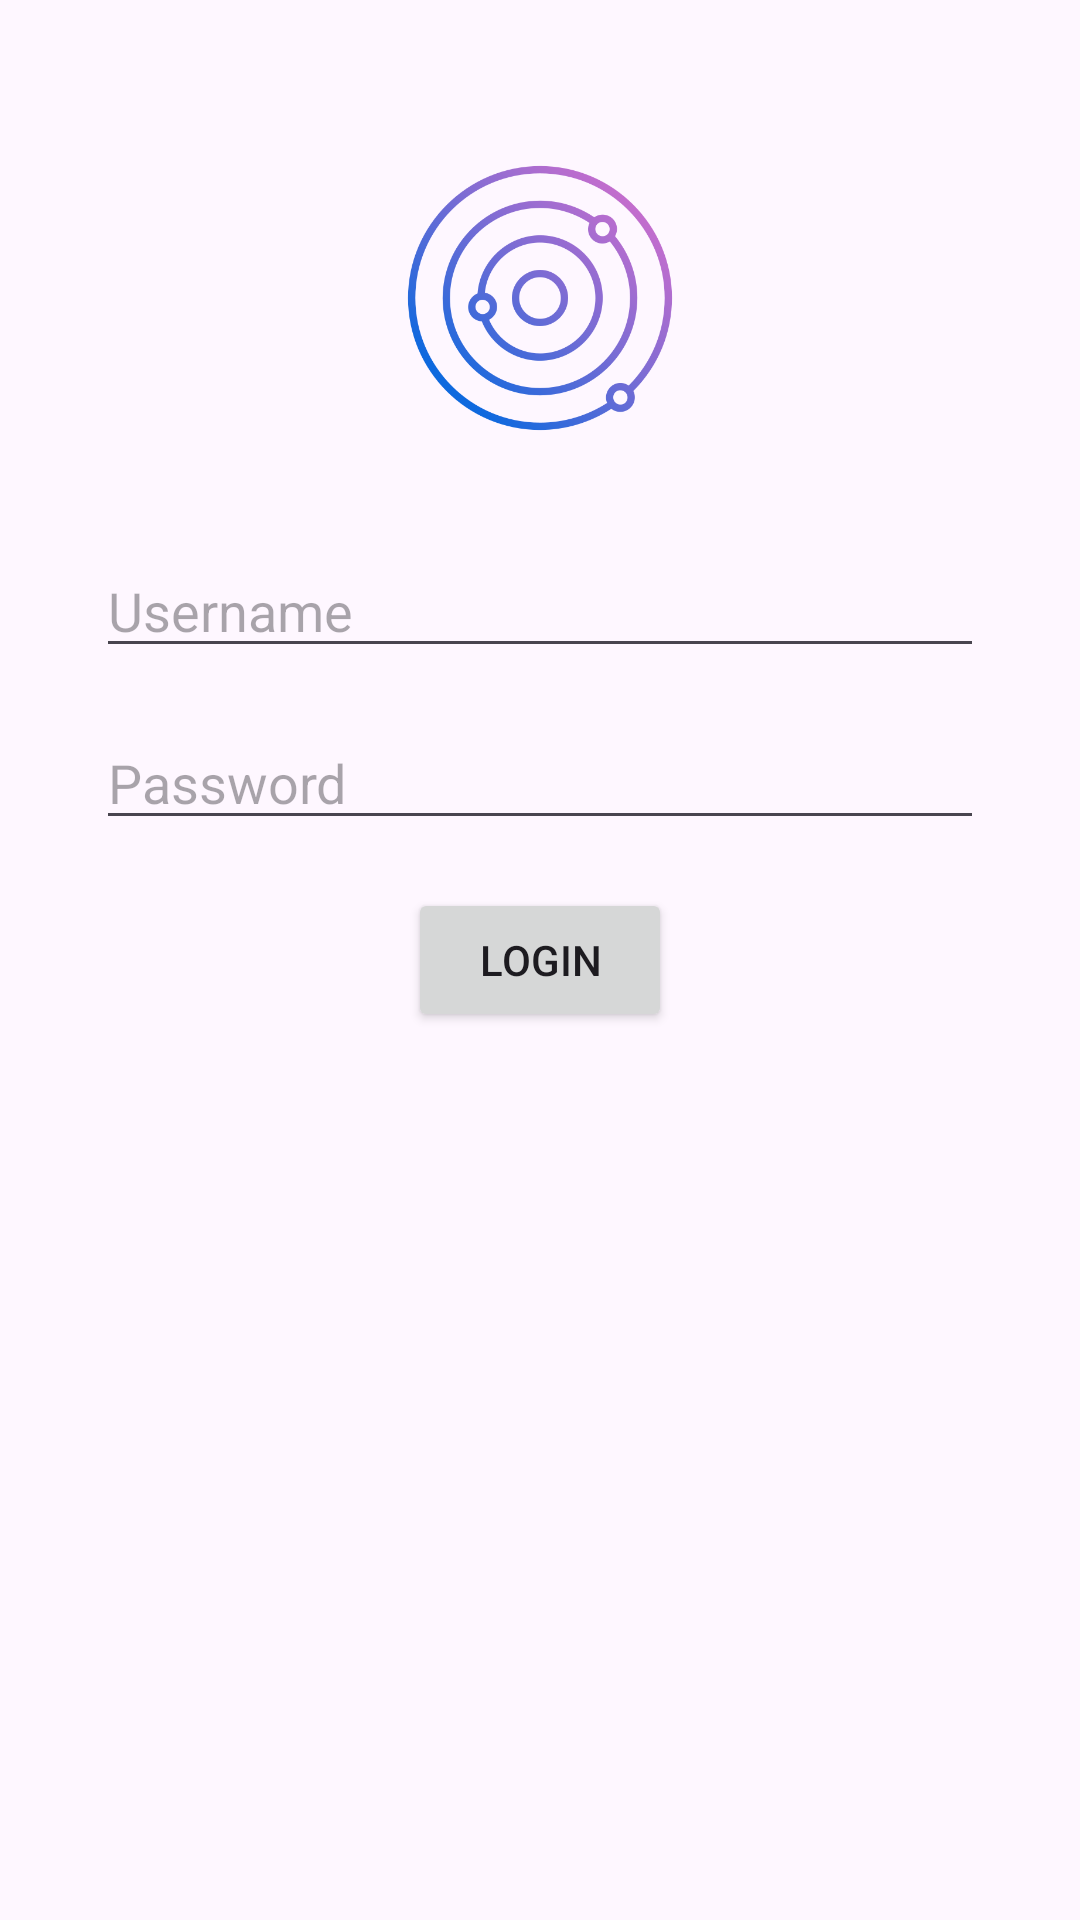

Where to tap for icons on this 1080px×1920px app screen, as (x,y):
astronomy: (540,298)
